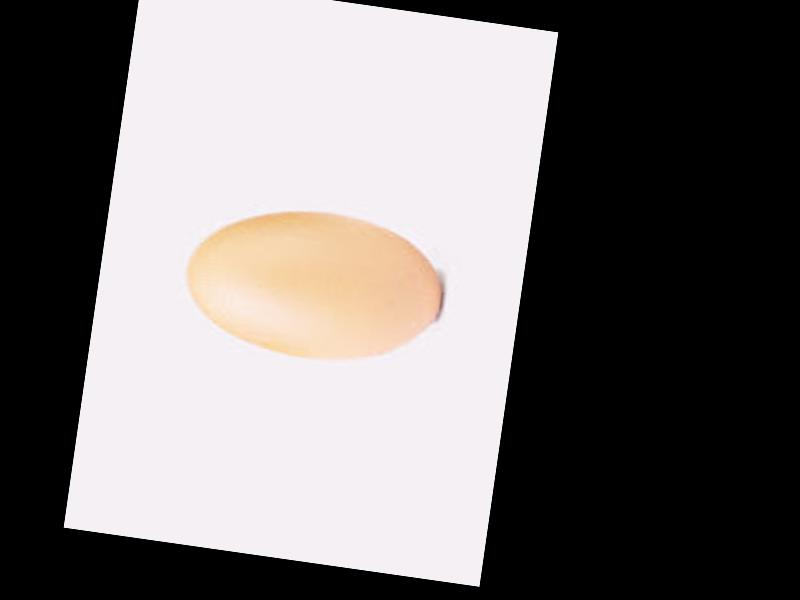Eggs: (173, 195, 452, 374)
